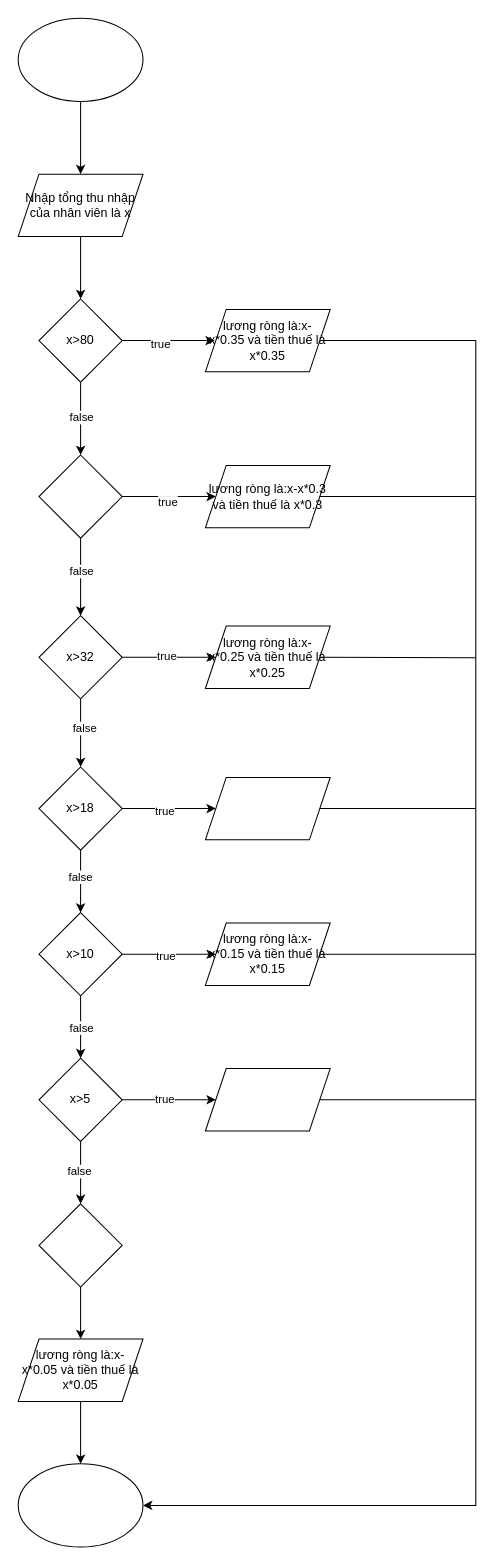
The diagram is 502 pixels wide and 1565 high, and some of its shapes have lost their labels. The shapes that lost their labels are listed below. From the top down, each one's centre as x and y in pixels, then its label:
At pixel 80 59: "Start".
At pixel 80 496: "x>52".
At pixel 267 808: "lương ròng là:x-x*0.2 và tiền thuế là x*0.2".
At pixel 267 1099: "lương ròng là:x-x*0.1 và tiền thuế là x*0.1".
At pixel 80 1245: "x>0".
At pixel 80 1505: "End".
